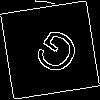G: (25, 25, 84, 86)
